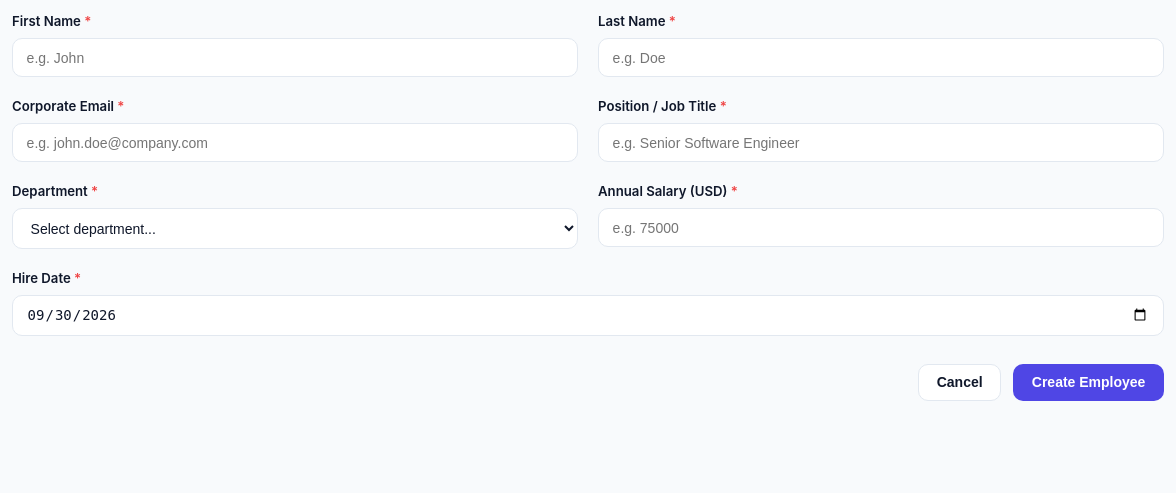
Test: EmployeeForm Component › validates that first name and last name cannot be identical
This screenshot has width=1176, height=493.
In the field labelled "First Name *": {"x": 295, "y": 58} [12,38,578,77], type "Smith"
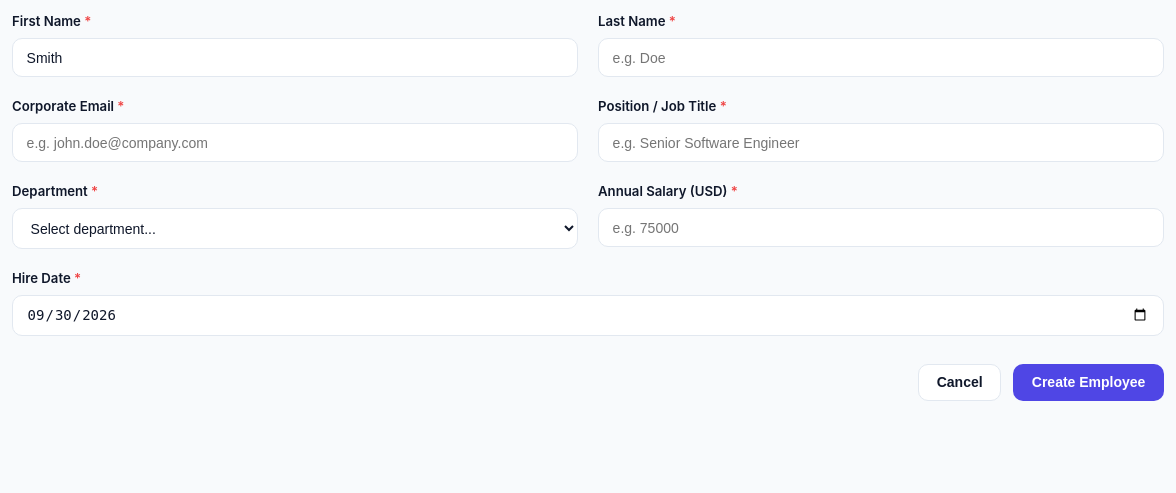
In the field labelled "Last Name *": {"x": 881, "y": 58} [598,38,1164,77], type "Smith"
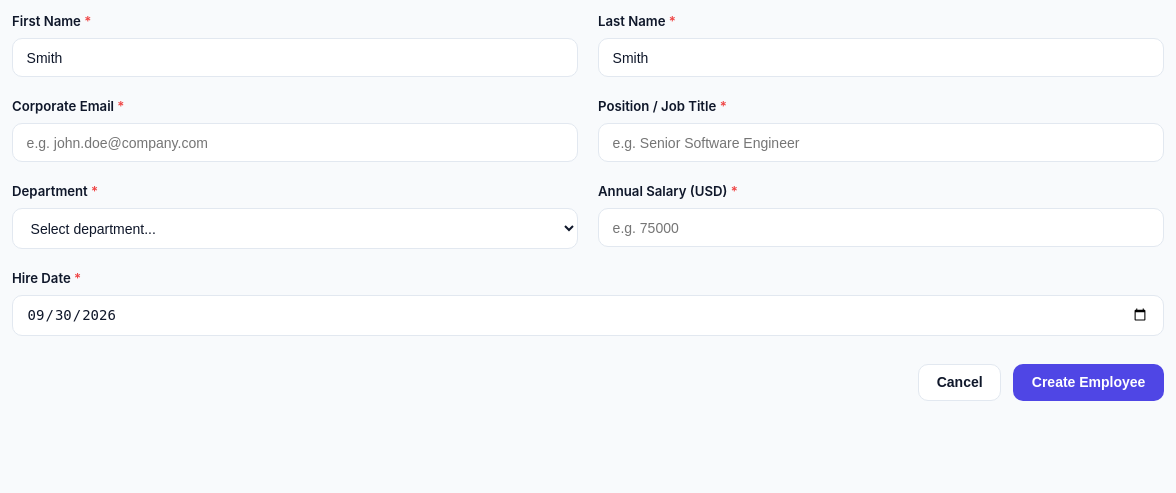
Click the button "Create Employee": {"x": 1089, "y": 382} [1013,364,1164,401]
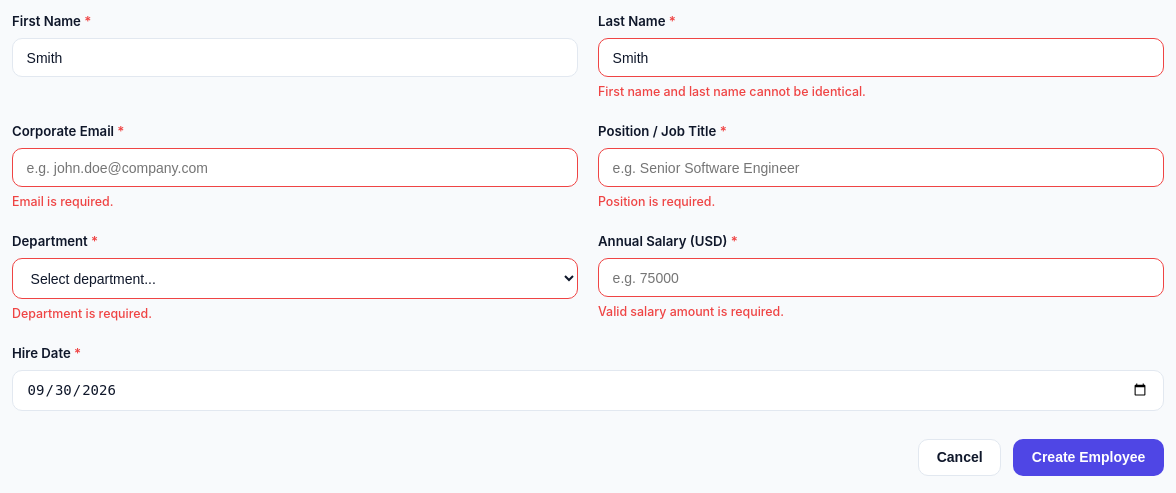
expect the text "First name and last name cannot be identical." is shown: met, box [598,84,866,99]
